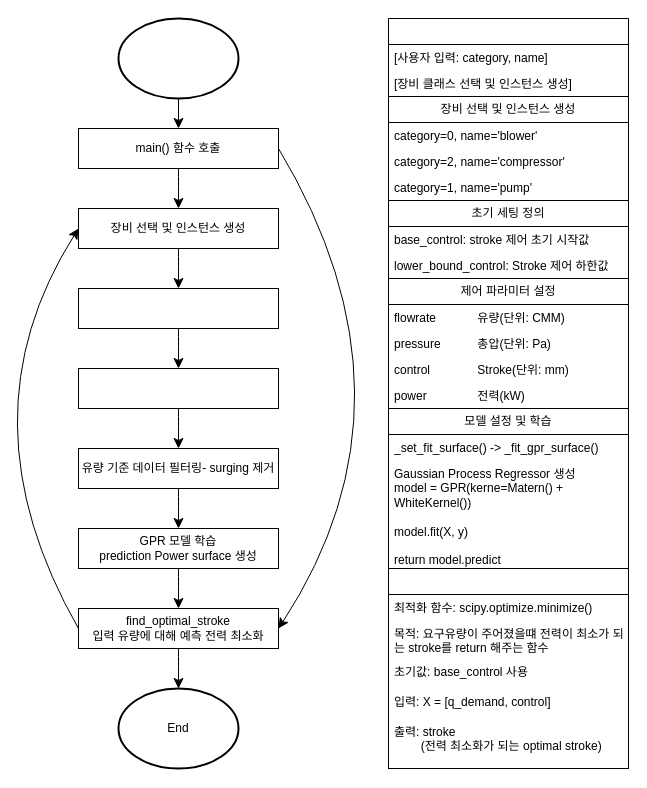
This 647x788 diagram has some shape labels left out. Each missing label, with the box of its shape:
find_optimal_stroke: (388, 568, 628, 768)
main: (388, 18, 628, 768)
Start: (117, 17, 239, 99)
데이터 불러오기(data_load): (78, 368, 278, 408)
초기 세팅(initial settings) 정의: (78, 288, 278, 328)
